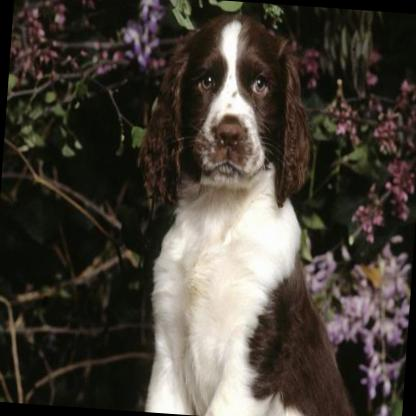English_springer: (120, 12, 382, 416)
